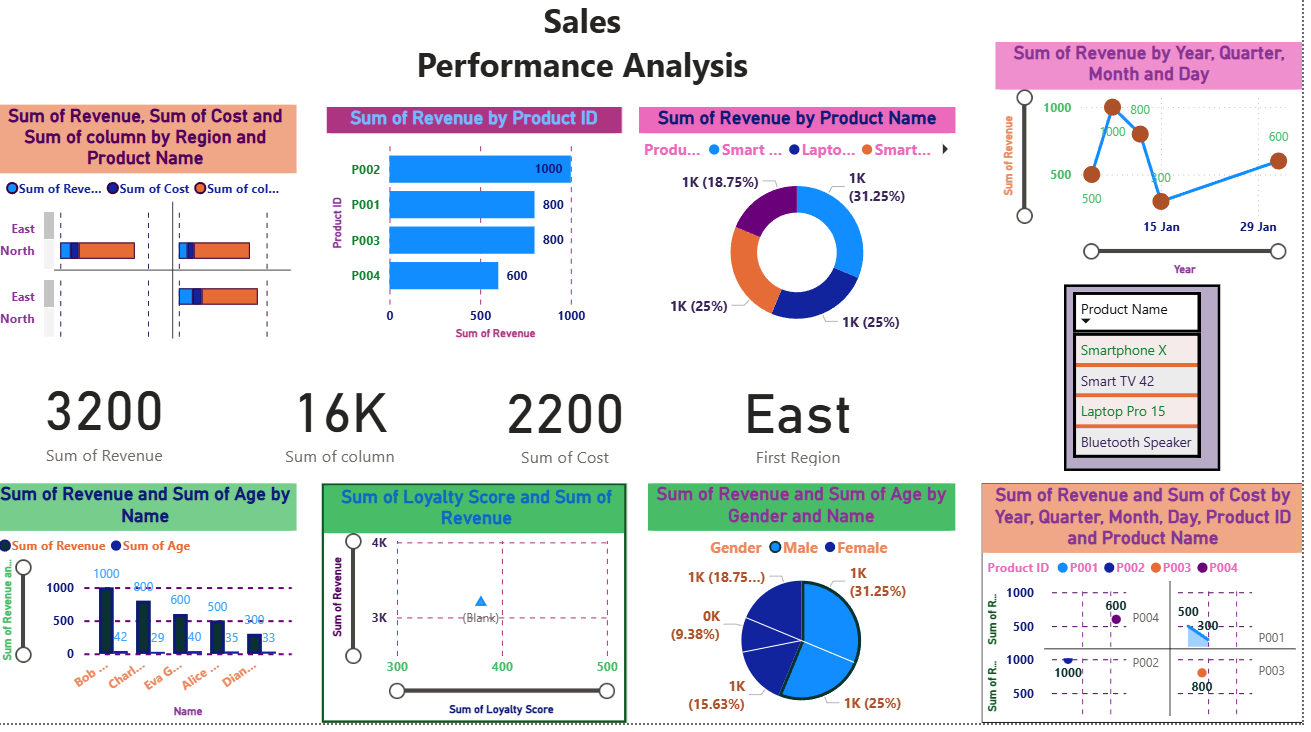

This screenshot's page, from the dashboard's own definition file:
{"tool":"powerbi","page":{"name":"Study1","canvas":[1280,720],"ordinal":0},"visuals":[{"type":"barChart","fields":{"Category":["Sales Data.Region"],"Y":["Sales Data.Revenue","Sales Data.Cost","Sales Data.column"],"Rows":["Products.Product Name"]},"box":[0,114.9,295.9,234.8],"z":0},{"type":"barChart","fields":{"Category":["Sales Data.Product ID"],"Y":["Sales Data.Revenue"]},"box":[325.3,117.4,288.6,232.3],"z":1000},{"type":"lineChart","fields":{"Y":["Sales Data.Revenue"],"Category":["Sales Data.Order Date.Variation.Date Hierarchy.Year","Sales Data.Order Date.Variation.Date Hierarchy.Quarter","Sales Data.Order Date.Variation.Date Hierarchy.Month","Sales Data.Order Date.Variation.Date Hierarchy.Day"]},"box":[979.5,53.8,300.8,232.3],"z":2000},{"type":"donutChart","fields":{"Y":["Sales Data.Revenue"],"Category":["Products.Product Name"]},"box":[631,117.4,309.4,232.3],"z":3000},{"type":"areaChart","fields":{"Y":["Sales Data.Revenue"],"Category":["Sales Data.Order Date.Variation.Date Hierarchy.Year","Sales Data.Order Date.Variation.Date Hierarchy.Quarter","Sales Data.Order Date.Variation.Date Hierarchy.Month","Sales Data.Order Date.Variation.Date Hierarchy.Day"],"Series":["Sales Data.Product ID"],"Rows":["Products.Product Name"]},"box":[966,485.5,314.3,234.8],"z":4000},{"type":"clusteredColumnChart","fields":{"Y":["Sales Data.Revenue","Customers.Age"],"Category":["Customers.Name"]},"box":[0,485.5,295.9,234.8],"z":5000},{"type":"pieChart","fields":{"Y":["Sales Data.Revenue"],"Category":["Customers.Gender"],"Series":["Customers.Name"]},"box":[639.5,485.5,300.8,234.8],"z":6000},{"type":"scatterChart","fields":{"X":["Customers.Loyalty Score"],"Y":["Sales Data.Revenue"]},"box":[320.4,485.5,298.4,234.8],"z":7000},{"type":"card","fields":{"Values":["Sales Data.Revenue"]},"box":[18.3,368.1,179.8,101.5],"z":8000},{"type":"card","fields":{"Values":["Sales Data.column"]},"box":[249.5,368.1,178.5,103.9],"z":9000},{"type":"card","fields":{"Values":["Sales Data.Cost"]},"box":[469.6,369.3,178.5,103.9],"z":10000},{"type":"tableEx","fields":{"Values":["Products.Product Name"]},"box":[1046.7,291,152.9,182.2],"z":11000},{"type":"card","fields":{"Values":["Sales Data.Region"]},"box":[697,369.3,179.8,103.9],"z":12000},{"type":"textbox","box":[391.3,6.1,368.1,95.4],"z":13000}]}

Visuals, with their boxes in screenshot pixels (x1, y1, x2, y2), scaled from the page's 1280x720 canvas onto the 1311x732 screenshot:
barChart - Sales Data.Region x Sales Data.Revenue: bbox=[0, 117, 303, 356]
barChart - Sales Data.Product ID x Sales Data.Revenue: bbox=[333, 119, 629, 356]
lineChart - Sales Data.Revenue x Sales Data.Order Date.Variation.Date Hierarchy.Year: bbox=[1003, 55, 1310, 291]
donutChart - Sales Data.Revenue x Products.Product Name: bbox=[646, 119, 963, 356]
areaChart - Sales Data.Revenue x Sales Data.Order Date.Variation.Date Hierarchy.Year: bbox=[989, 494, 1310, 731]
clusteredColumnChart - Sales Data.Revenue x Customers.Age: bbox=[0, 494, 303, 731]
pieChart - Sales Data.Revenue x Customers.Gender: bbox=[655, 494, 963, 731]
scatterChart - Customers.Loyalty Score x Sales Data.Revenue: bbox=[328, 494, 634, 731]
card - Sales Data.Revenue: bbox=[19, 374, 203, 477]
card - Sales Data.column: bbox=[256, 374, 438, 480]
card - Sales Data.Cost: bbox=[481, 375, 664, 481]
tableEx - Products.Product Name: bbox=[1072, 296, 1229, 481]
card - Sales Data.Region: bbox=[714, 375, 898, 481]
textbox: bbox=[401, 6, 778, 103]
